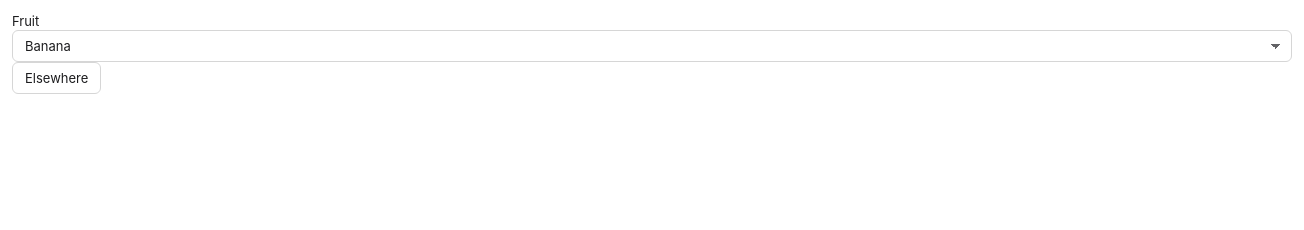
Scenario: a click opens the list and an option sets the value
The image size is (1304, 230).
Click the dropdown named "Fruit" at (48, 46), box [12,30,1292,62]
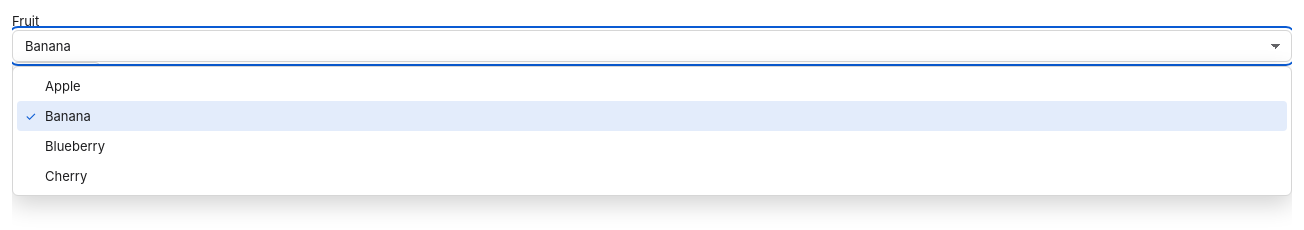
Click the option "Cherry" at (66, 176), box [45,168,87,184]
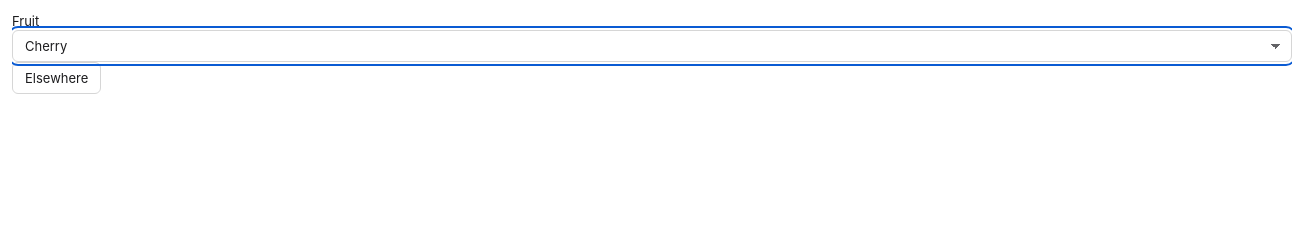
Expected: the list is gone
Expected: the dropdown named "Fruit" reads "Cherry", [12,30,1292,62]
